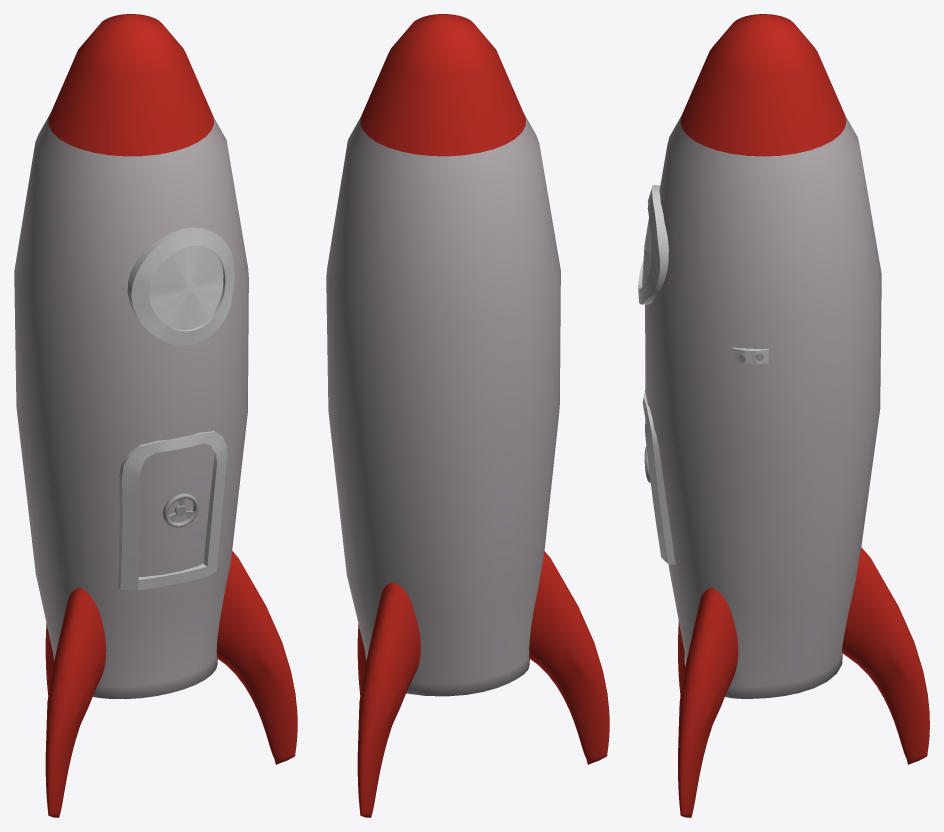
The model's file is retrorockett4k1t.dae.
The picture shows the model from 3 angles, left to right: view 1: azimuth 30°, elevation 25°; view 2: azimuth 150°, elevation 25°; view 3: azimuth 270°, elevation 25°; orthographic projection.
Parts seen in each view (by area): view 1: MainBody, Cap, Fin, Fin_001, Hatch, WindowFrame, Window, HatchHandle; view 2: MainBody, Cap, Fin_001, Fin_002; view 3: MainBody, Cap, Fin_002, Fin, Hatch, WindowFrame.
Boxes of the visible parts, left/top/right/bottom form: MainBody: left=14, top=113, right=248, bottom=699; Cap: left=48, top=14, right=213, bottom=156; Fin: left=216, top=551, right=297, bottom=764; Fin_001: left=45, top=587, right=106, bottom=817; Hatch: left=118, top=430, right=227, bottom=590; WindowFrame: left=127, top=227, right=234, bottom=345; Window: left=149, top=245, right=223, bottom=329; HatchHandle: left=163, top=493, right=198, bottom=527; MainBody: left=326, top=114, right=560, bottom=696; Cap: left=360, top=14, right=525, bottom=156; Fin_001: left=529, top=551, right=609, bottom=764; Fin_002: left=357, top=582, right=420, bottom=817; MainBody: left=645, top=115, right=881, bottom=698; Cap: left=680, top=14, right=846, bottom=156; Fin_002: left=842, top=547, right=929, bottom=764; Fin: left=678, top=587, right=738, bottom=817; Hatch: left=642, top=390, right=675, bottom=564; WindowFrame: left=638, top=185, right=668, bottom=304.
Bounding box in the file's own units: 2.43 × 2.45 × 6.94.
Materials: 8 (3 with a texture image).
